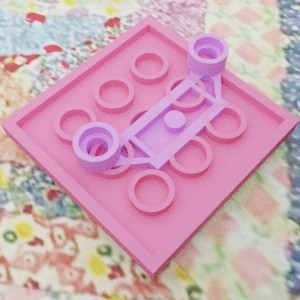lego: (0, 15, 299, 279), (72, 33, 229, 182)
